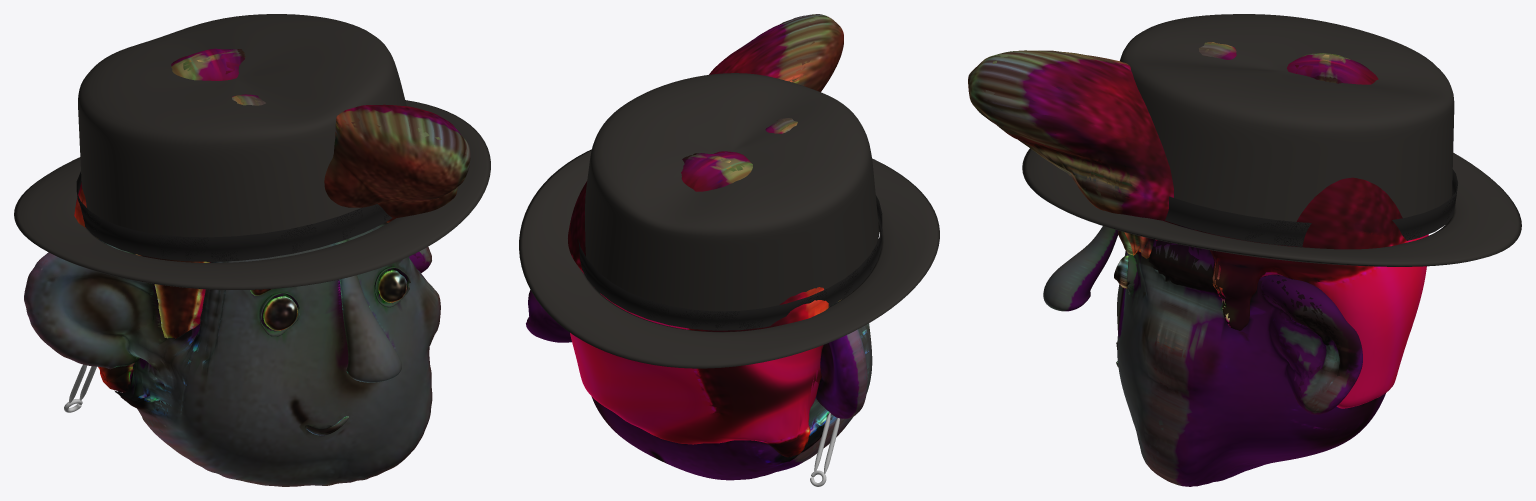
Rendered from face-felt.glb.
3 views of the same model, side by side, from view 1: azimuth 30°, elevation 25°; view 2: azimuth 150°, elevation 25°; view 3: azimuth 270°, elevation 25° (orthographic). The views are drawn at different scales.
Parts seen in each view (by area): view 1: Hat, Skin, Hair, HatBand, EyeL, EyeR, Pin; view 2: Hat, Hair, Skin, HatBand, Pin; view 3: Hat, Skin, Hair, HatBand.
Boxes of the visible parts, x1,y1,x2,y2 form: Hat: (14,14,490,289); Skin: (24,222,440,486); Hair: (74,48,470,392); HatBand: (76,171,392,261); EyeL: (263,296,297,330); EyeR: (378,270,406,302); Pin: (64,364,96,412); Hat: (519,73,939,368); Hair: (568,14,843,457); Skin: (526,290,872,480); HatBand: (578,195,882,330); Pin: (810,413,839,486); Hat: (1022,14,1521,266); Skin: (1043,225,1385,486); Hair: (968,42,1428,408); HatBand: (1165,169,1457,247).
Bounding box in the file's own units: 2.83 × 2.85 × 3.37.
Materials: 11 (7 with a texture image).
